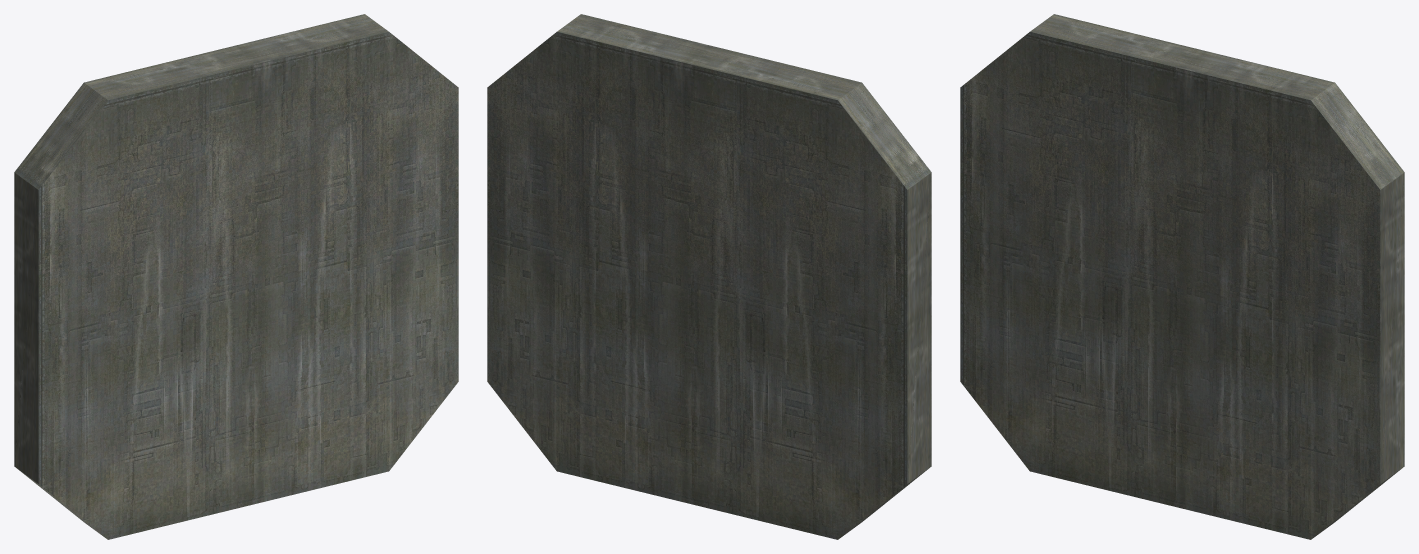
The model's file is RealityWall_4x4.fbx.
3 renders of one model, left to right at view 1: azimuth 30°, elevation 25°; view 2: azimuth 150°, elevation 25°; view 3: azimuth 330°, elevation 25°, orthographic.
Parts seen in each view (by area): view 1: RealityWall_4x4; view 2: RealityWall_4x4; view 3: RealityWall_4x4.
Boxes of the visible parts, box(x1,y1,x2,y2) form: RealityWall_4x4: box(14, 14, 458, 539); RealityWall_4x4: box(487, 14, 931, 539); RealityWall_4x4: box(960, 14, 1404, 539).
Size of the model in its own units: 400 by 400 by 40.
